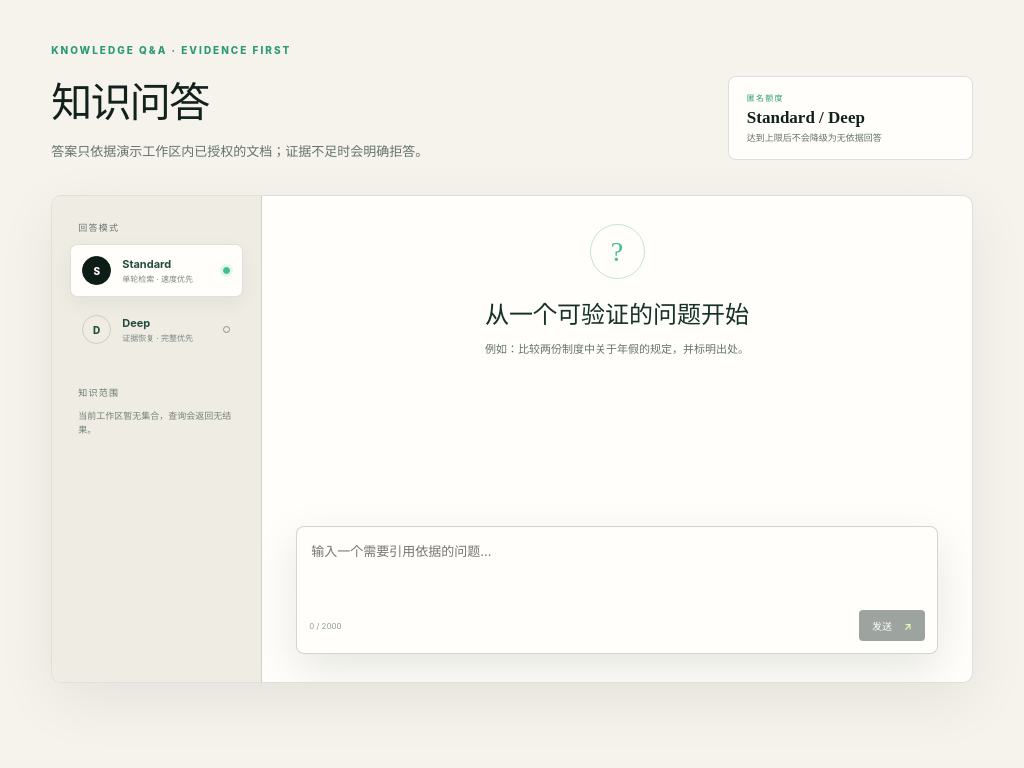
Test: public chat browser states › keeps a bounded abstention visible without inventing citations
This screenshot has width=1024, height=768.
Type "证据之外的问题" into the text box with placeholder "输入一个需要引用依据的问题…" at (617,572), box [309,539,925,605]
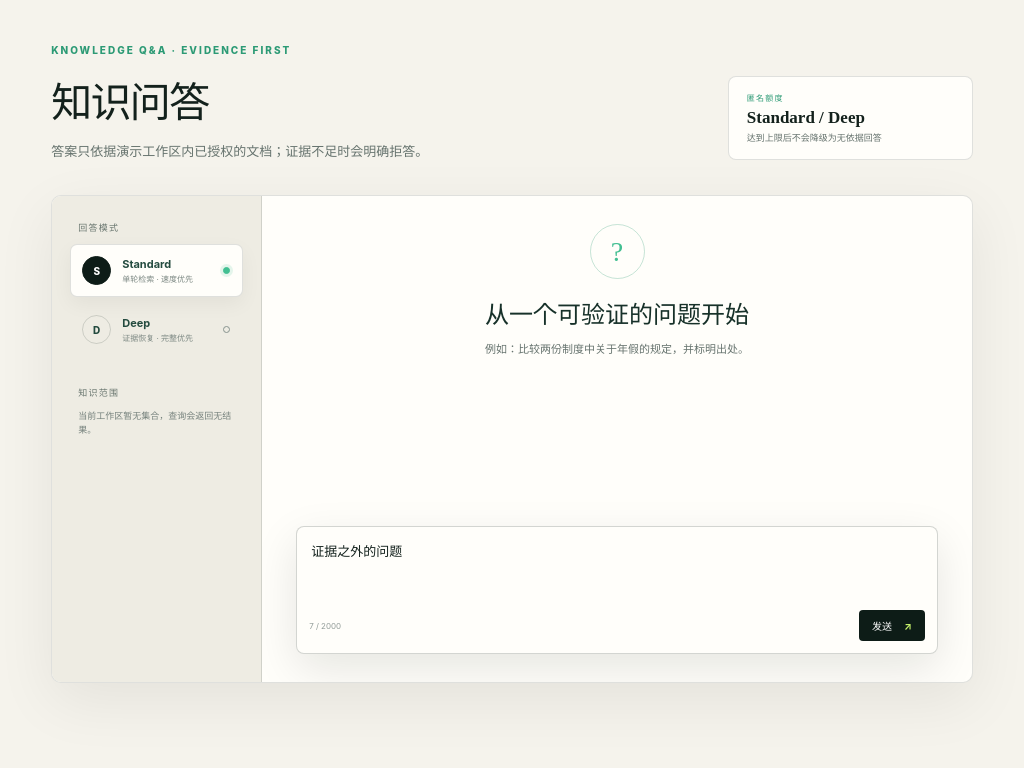
Submit the form, box [296,526,938,654]
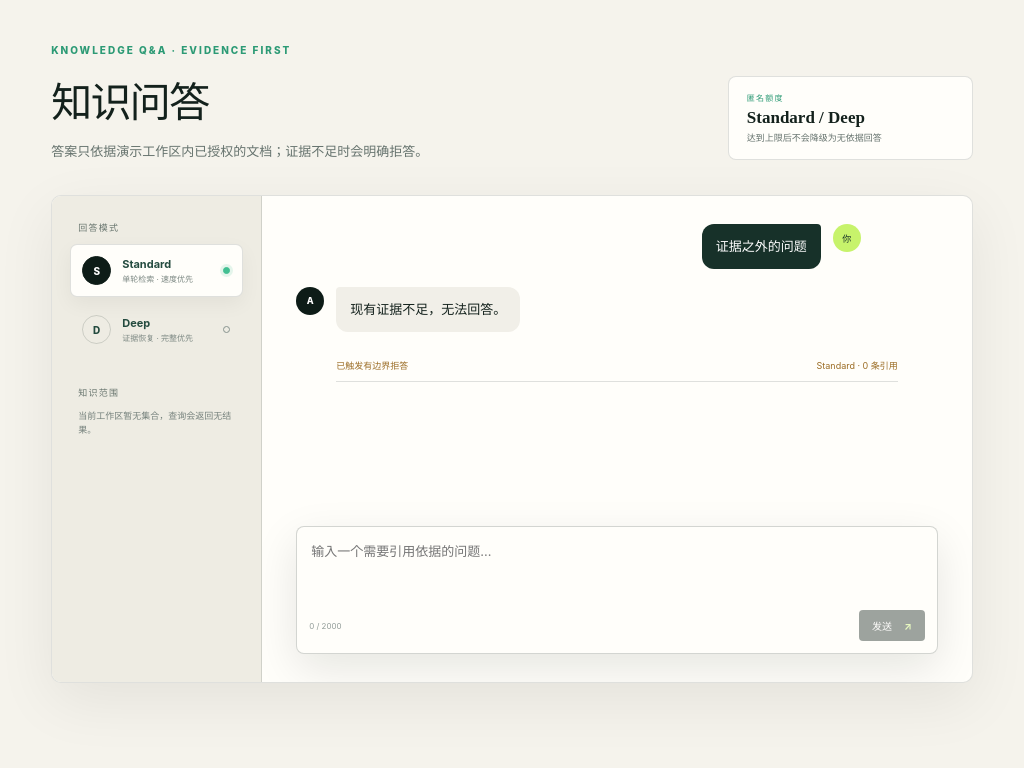
Expected: the text "现有证据不足，无法回答。" is shown, [336,287,520,332]
Expected: the text "已触发有边界拒答" is shown, [336,358,408,372]
